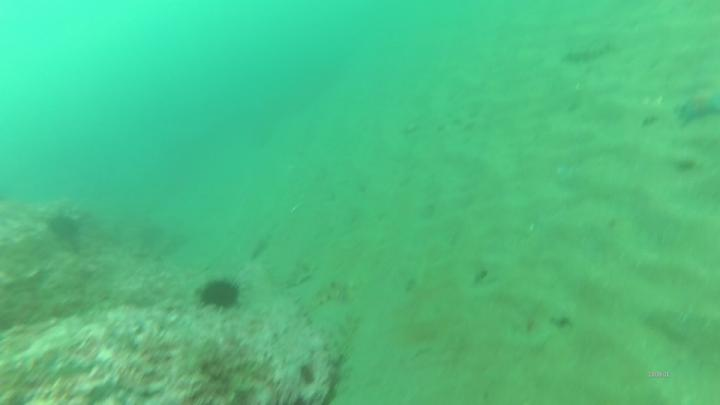echinus: (197, 276, 239, 315)
starfish: (673, 96, 720, 126)
